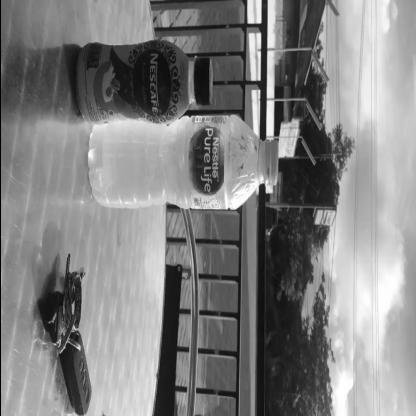plastic_bottles: (83, 113, 281, 211)
